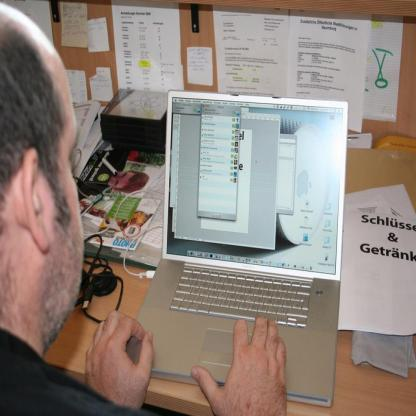board: (126, 88, 348, 408)
